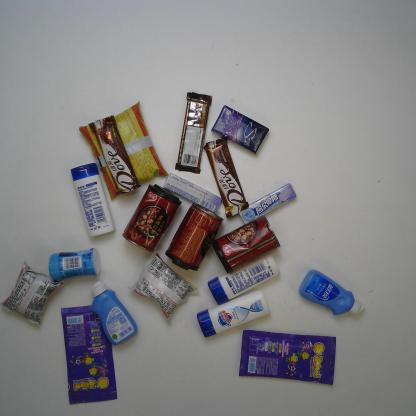Candy: (53, 297, 119, 406), (238, 326, 337, 386), (238, 183, 299, 224), (161, 174, 223, 214)
Canned Food: (210, 212, 282, 276), (121, 180, 180, 255), (164, 205, 224, 273)
Chocolate: (86, 112, 141, 196), (203, 135, 250, 219), (174, 88, 214, 175)
Dessert: (130, 251, 196, 321), (1, 256, 65, 327)
Gum: (210, 103, 270, 157), (44, 244, 102, 283)
Personal Hygiene: (196, 289, 276, 340), (206, 253, 281, 305), (69, 160, 115, 238), (296, 269, 366, 319), (87, 278, 138, 346)
Seasoner: (79, 101, 169, 197)
